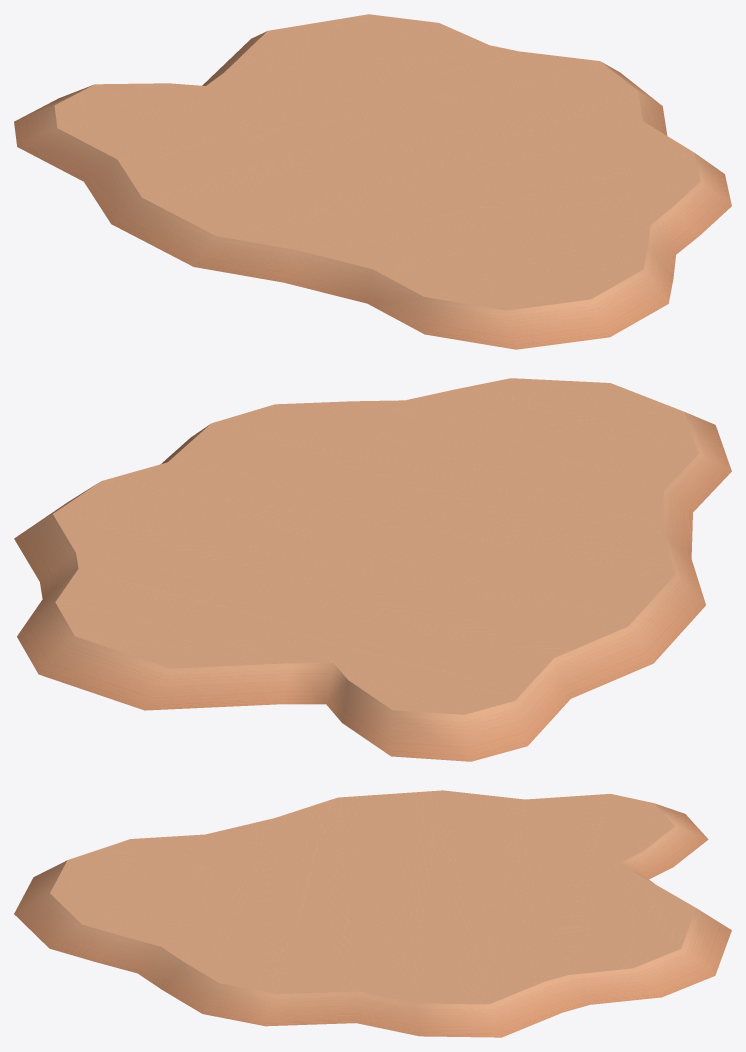
Rendered from patch-sand.001_lev2.glb.
3 renders of one model, top to bottom at view 1: azimuth 30°, elevation 25°; view 2: azimuth 150°, elevation 25°; view 3: azimuth 270°, elevation 25°, orthographic. The views are drawn at different scales.
Visible parts, largest first — view 1: patch-sand.001_lev2; view 2: patch-sand.001_lev2; view 3: patch-sand.001_lev2.
Part boxes in pixels (box(x1,y1,x2,y2)): patch-sand.001_lev2: box(14, 14, 731, 349); patch-sand.001_lev2: box(14, 378, 731, 761); patch-sand.001_lev2: box(14, 790, 731, 1037).
Size of the model in its own units: 7.75 by 0.3199 by 9.89.
1 material, 1 textured.
